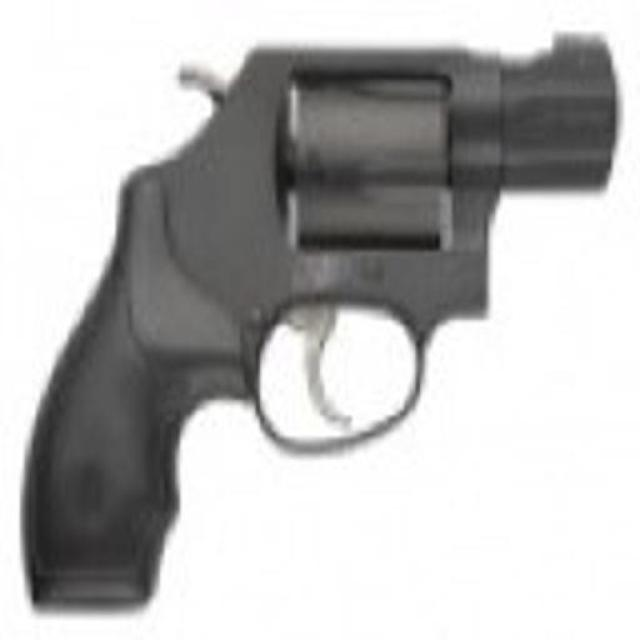pistol: (31, 26, 620, 612)
